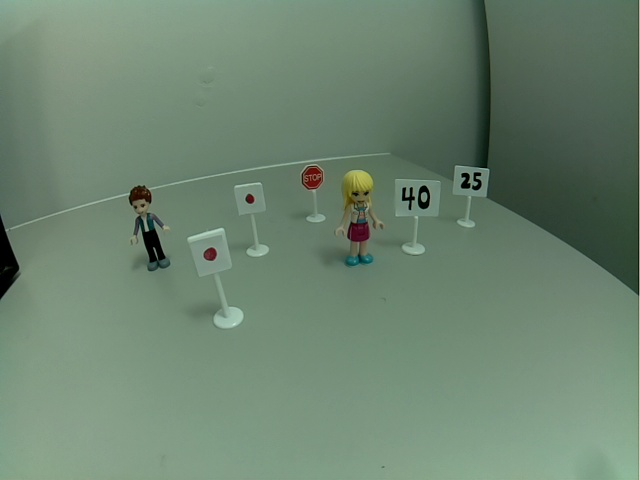people: (333, 167, 387, 268), (125, 185, 175, 274)
red light: (186, 228, 235, 279), (233, 181, 269, 217)
speed 25: (450, 163, 490, 201)
speed 40: (392, 177, 442, 220)
stop: (299, 163, 326, 193)
